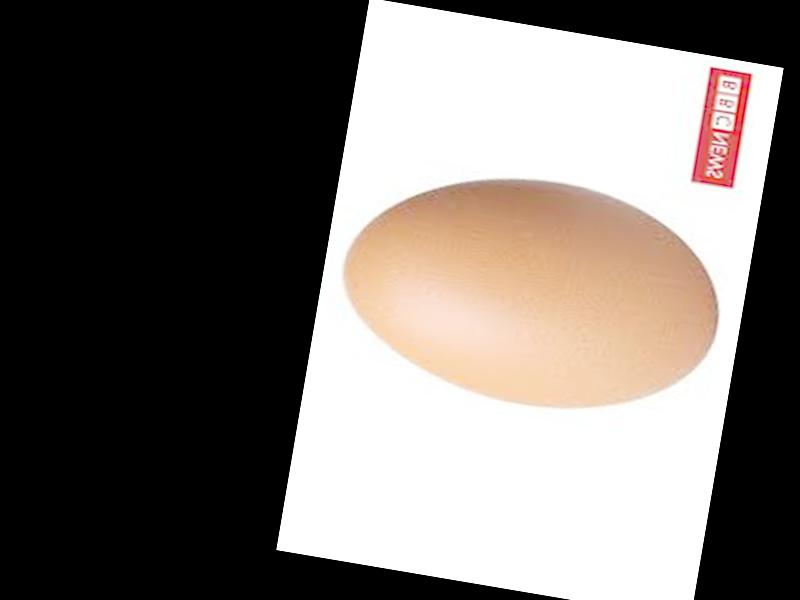Eggs: (329, 151, 734, 434)
